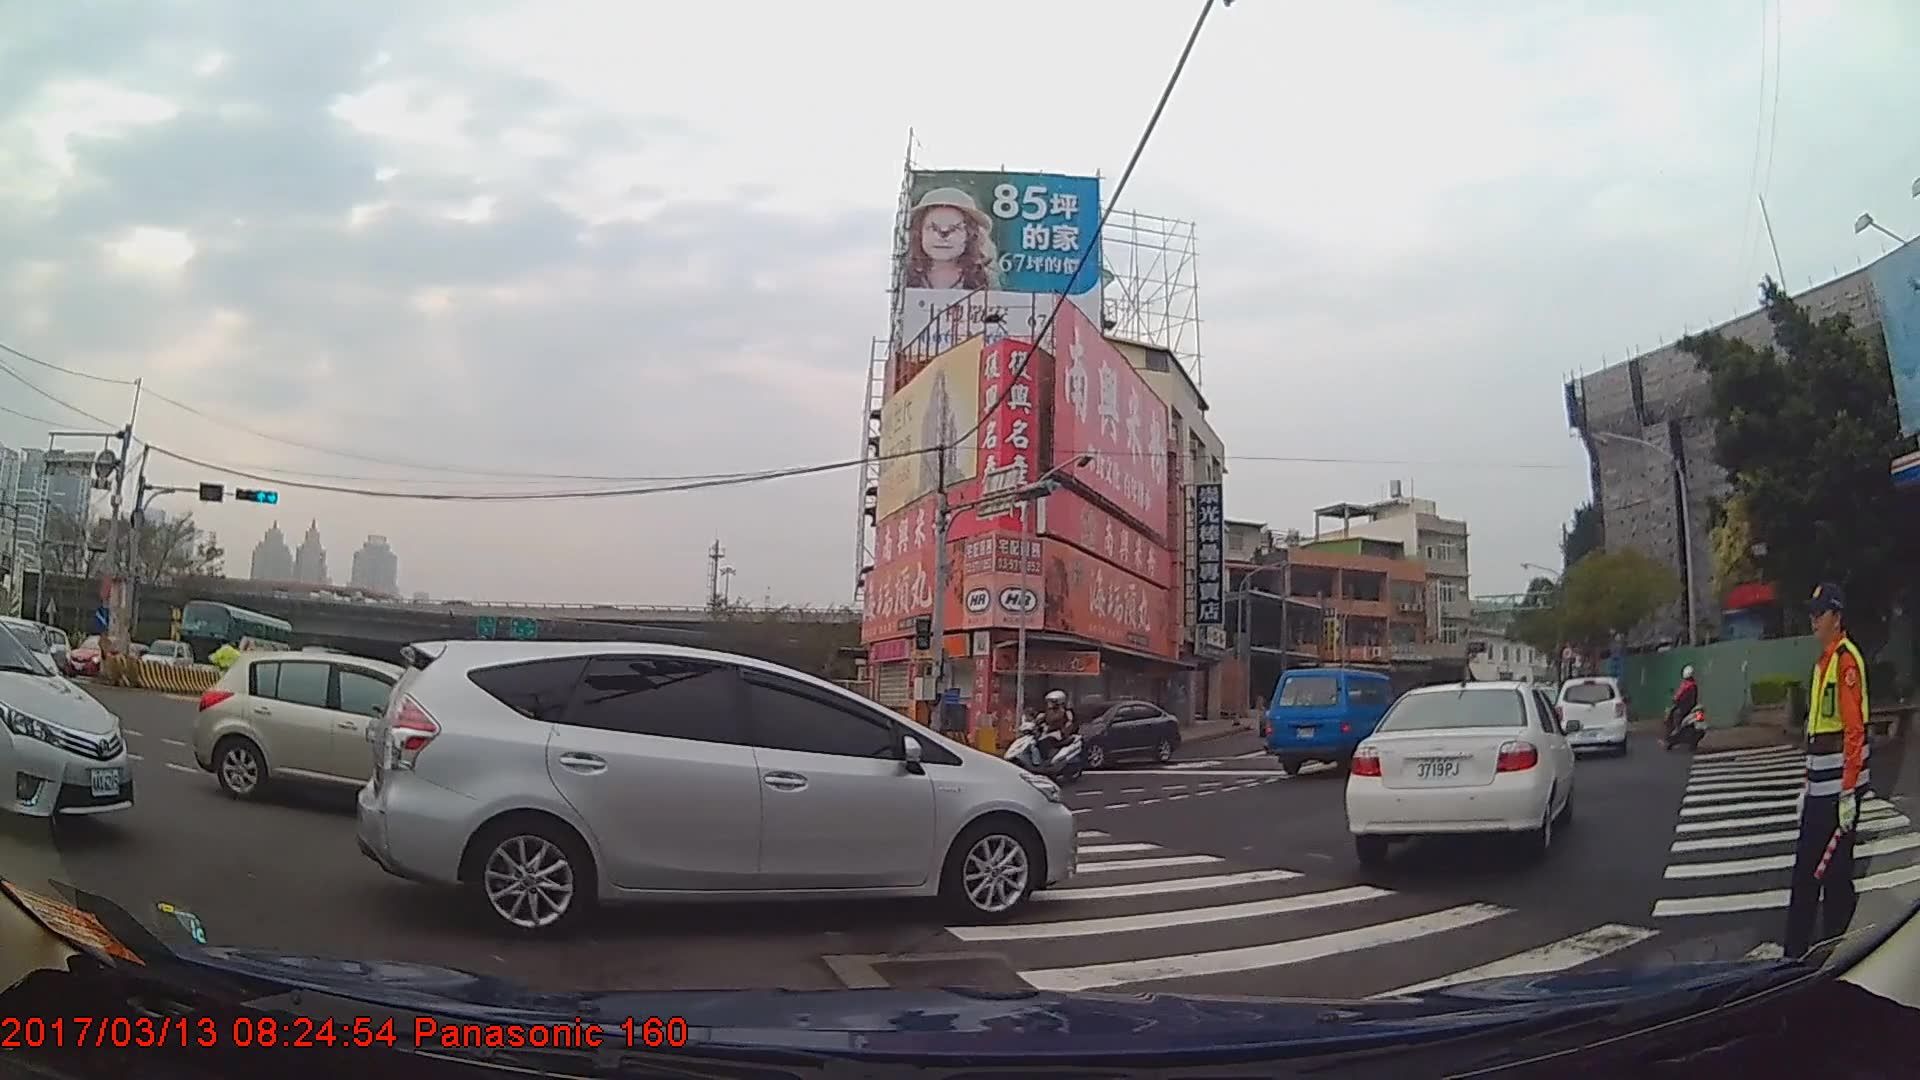pedestrian: (1785, 581, 1882, 980), (205, 632, 249, 730)
rider: (1004, 691, 1089, 778), (1665, 663, 1709, 750)
vehicle: (354, 633, 1080, 932), (196, 645, 485, 815), (1342, 678, 1576, 857), (0, 623, 136, 828), (1262, 666, 1402, 779), (177, 599, 294, 681), (1052, 694, 1176, 766), (1552, 673, 1625, 759), (62, 630, 141, 681), (138, 635, 190, 677)
